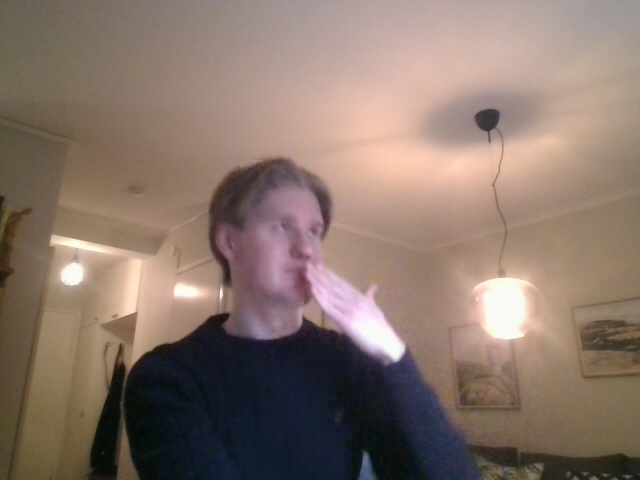ThankYou: (285, 261, 388, 360)
